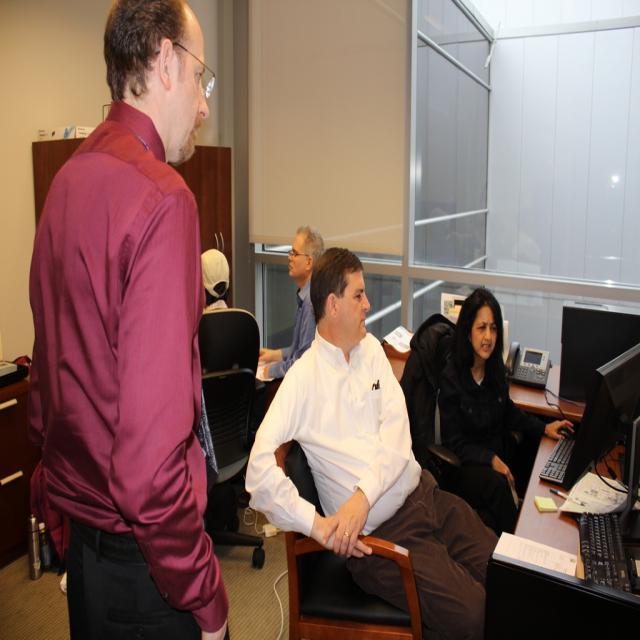chair: (198, 309, 272, 564), (286, 531, 422, 637)
desk: (488, 440, 636, 634)
keyboard: (582, 511, 632, 592)
laptop: (536, 345, 635, 490), (510, 348, 551, 386)
person: (26, 0, 210, 638), (245, 245, 499, 636), (437, 286, 572, 533), (256, 225, 326, 378)
tv: (557, 302, 639, 410)
